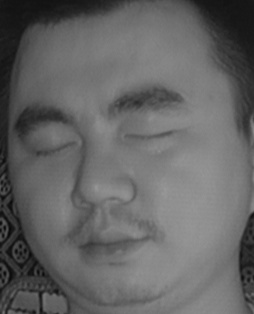blink: (128, 117, 174, 153), (30, 134, 80, 167)
mouth: (64, 217, 157, 273)
